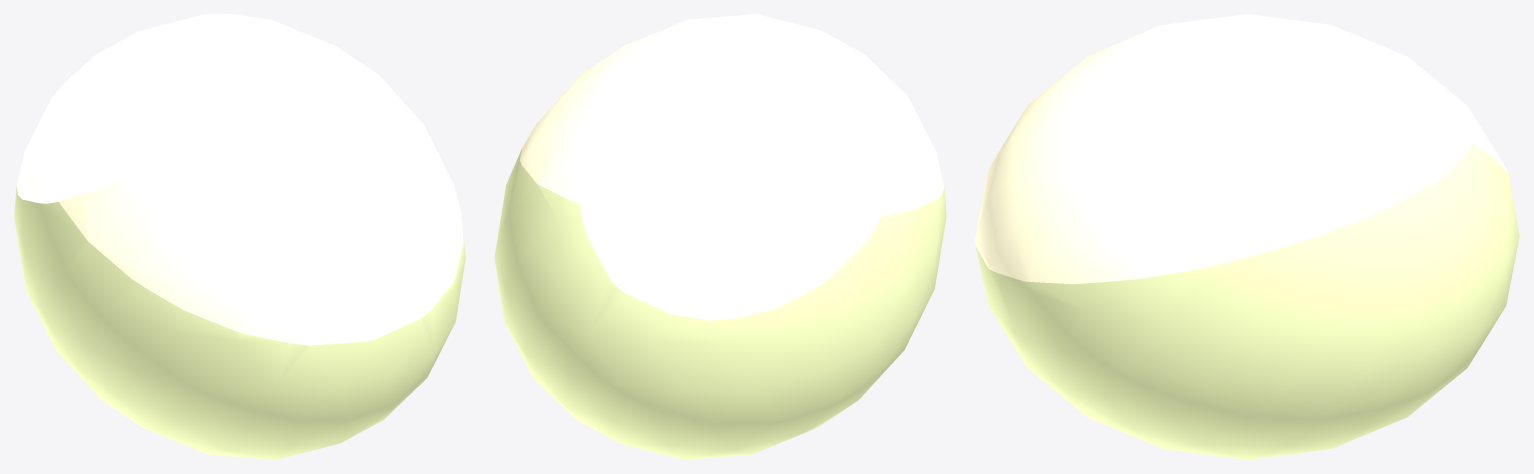
File: green_grape_285.glb
3 views of the same model, side by side, from view 1: azimuth 30°, elevation 25°; view 2: azimuth 150°, elevation 25°; view 3: azimuth 270°, elevation 25° (orthographic). The views are drawn at different scales.
Visible parts, largest first — view 1: green_grape_285; view 2: green_grape_285; view 3: green_grape_285.
Part boxes in pixels (x1,y1,x2,y2): green_grape_285: (14,14,465,459); green_grape_285: (494,14,946,459); green_grape_285: (975,14,1519,459).
Bounding box in the file's own units: 4.1 × 4.2 × 5.1.
